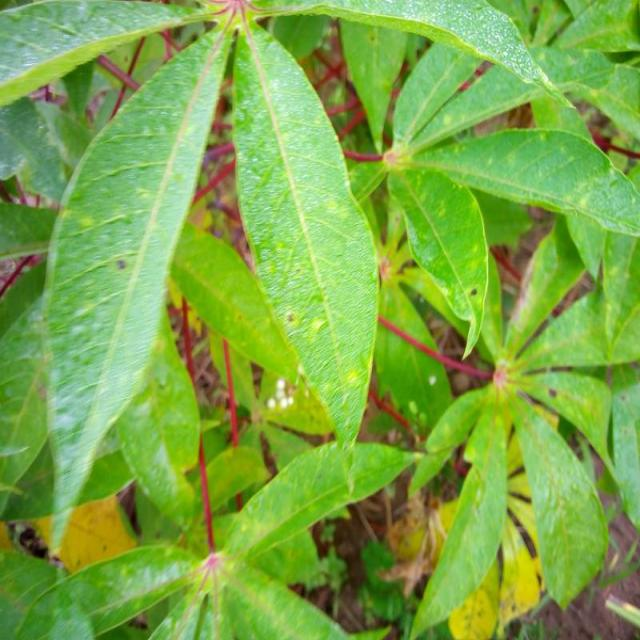cassava leaf: (1, 0, 638, 638), (38, 19, 231, 547), (230, 16, 381, 457)
